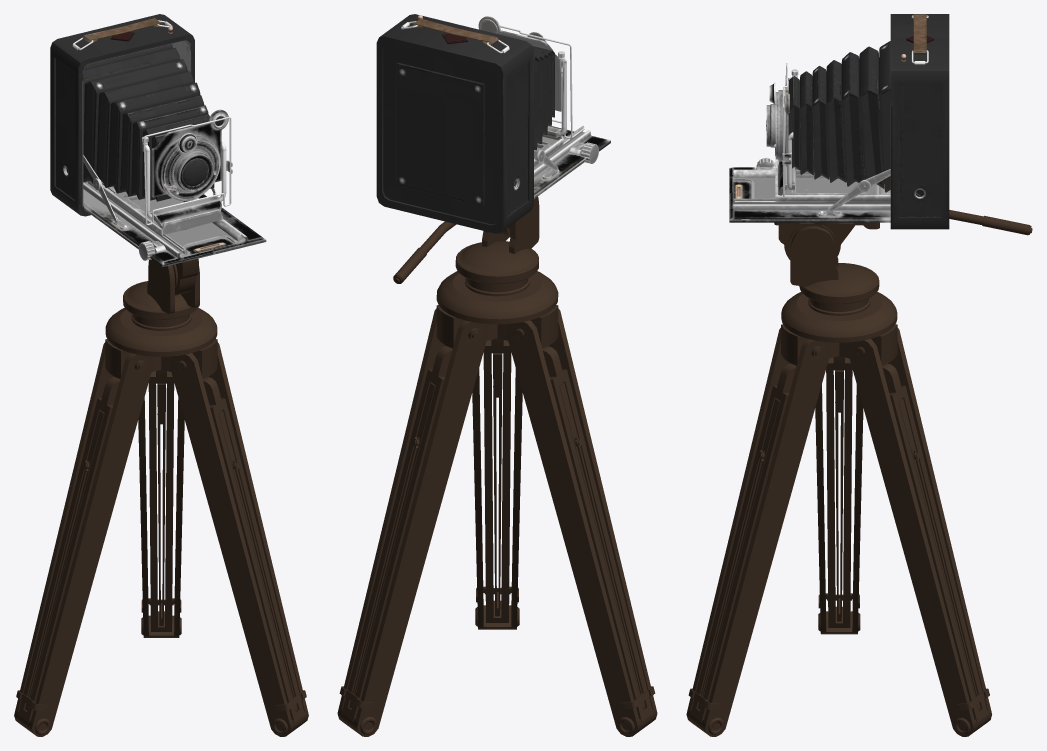
Rendered from antique_camera.glb.
The picture shows the model from 3 angles, left to right: view 1: azimuth 30°, elevation 25°; view 2: azimuth 150°, elevation 25°; view 3: azimuth 270°, elevation 25°; orthographic projection. The views are drawn at different scales.
Parts seen in each view (by area): view 1: tripod, camera; view 2: tripod, camera; view 3: tripod, camera.
Part boxes in pixels (bbox=[...]): tripod: bbox=[14, 258, 308, 736]; camera: bbox=[50, 14, 266, 266]; tripod: bbox=[337, 196, 657, 736]; camera: bbox=[376, 14, 610, 233]; tripod: bbox=[686, 210, 1032, 736]; camera: bbox=[729, 14, 949, 229].
Bounding box in the file's own units: 0.3603 × 1 × 0.4709.
2 materials, 1 textured.
